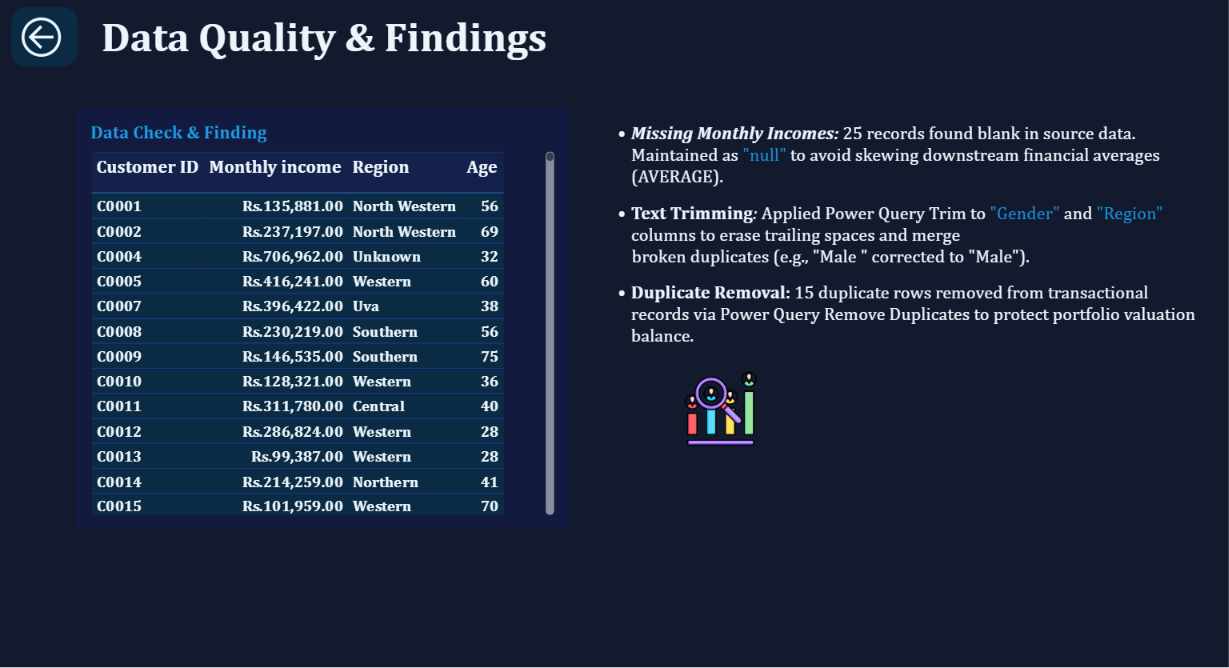

The dashboard page shown, as its layout file describes it:
{"tool":"powerbi","page":{"name":"Data Quality & Findings","canvas":[1280,720],"ordinal":9},"visuals":[{"type":"tableEx","title":" Data Check & Finding","fields":{"Values":["Loan_Details.Customer ID","Customer_Details.Monthly income","Customer_Details.Region","Customer_Details.Age"]},"box":[80.3,115.1,511.8,438.7],"z":0},{"type":"textbox","box":[94.6,16.6,486.4,57.2],"z":1000},{"type":"textbox","box":[629.2,115.1,625.6,282.8],"z":2000},{"type":"image","box":[650.8,375.1,199,106.7],"z":3000},{"type":"actionButton","box":[13,11.5,69.3,62],"z":4000}]}

Visuals, with their boxes on the page's 1280x720 design canvas (x1, y1, x2, y2). These are canvas units, not pixel positions in the 1229x668 screenshot, which may show the page scaled, cropped or inside an application window:
" Data Check & Finding" tableEx: rect(80, 115, 592, 554)
textbox: rect(95, 17, 581, 74)
textbox: rect(629, 115, 1255, 398)
image: rect(651, 375, 850, 482)
actionButton: rect(13, 12, 82, 74)
